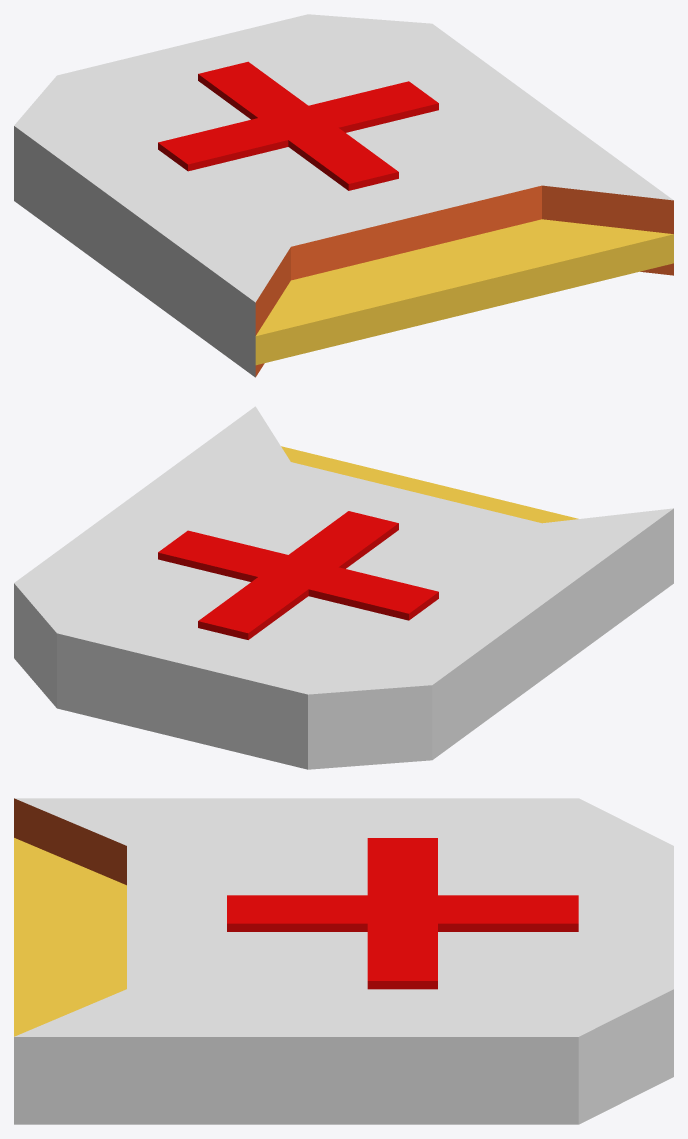
File: Upgrade_Health_03.fbx
The picture shows the model from 3 angles, top to bottom: view 1: azimuth 30°, elevation 25°; view 2: azimuth 150°, elevation 25°; view 3: azimuth 270°, elevation 25°; orthographic projection. The views are drawn at different scales.
Parts seen in each view (by area): view 1: Cube.001; view 2: Cube.001; view 3: Cube.001.
Part boxes in pixels (x1,y1,x2,y2): Cube.001: (14,14,673,377); Cube.001: (14,406,673,769); Cube.001: (14,798,673,1124).
Bounding box in the file's own units: 86.17 × 17.51 × 101.
